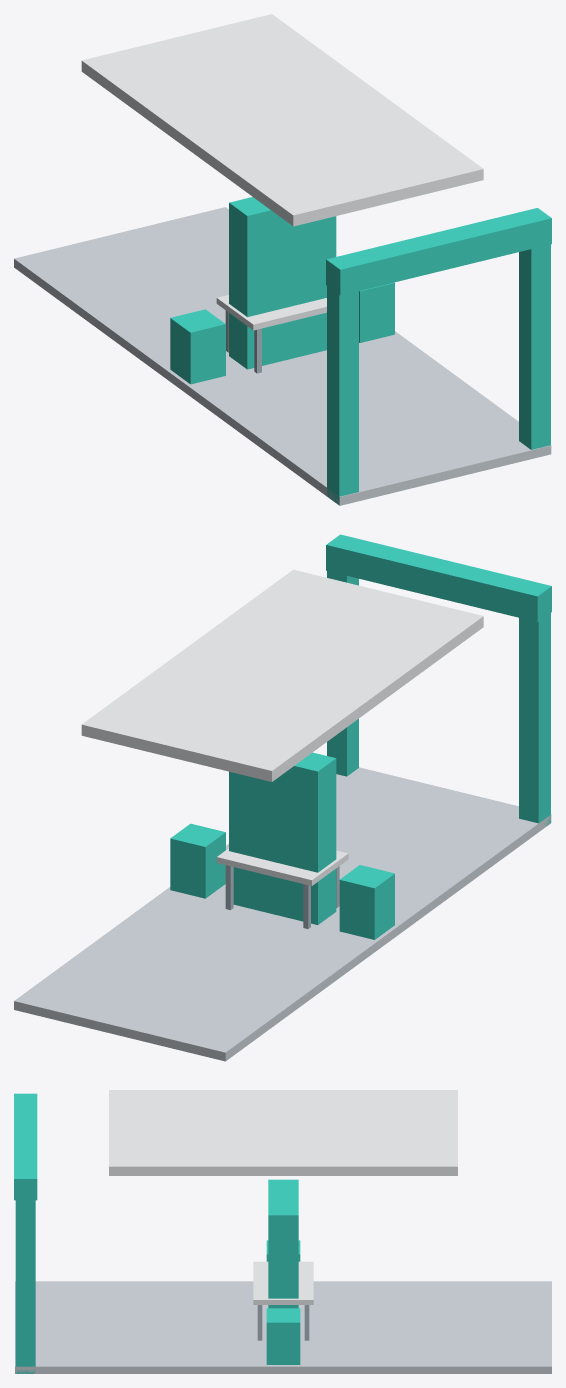
3 views of the same model, one above another, from view 1: azimuth 30°, elevation 25°; view 2: azimuth 150°, elevation 25°; view 3: azimuth 270°, elevation 25° (orthographic). The views are drawn at different scales.
Parts seen in each view (by area): view 1: Exhibition Booth Concept; view 2: Exhibition Booth Concept; view 3: Exhibition Booth Concept.
Boxes of the visible parts, <box> form: Exhibition Booth Concept: <box>14,14,551,505</box>; Exhibition Booth Concept: <box>14,534,551,1061</box>; Exhibition Booth Concept: <box>14,1090,551,1373</box>.
Size of the model in its own units: 3 by 3.34 by 8.01.
